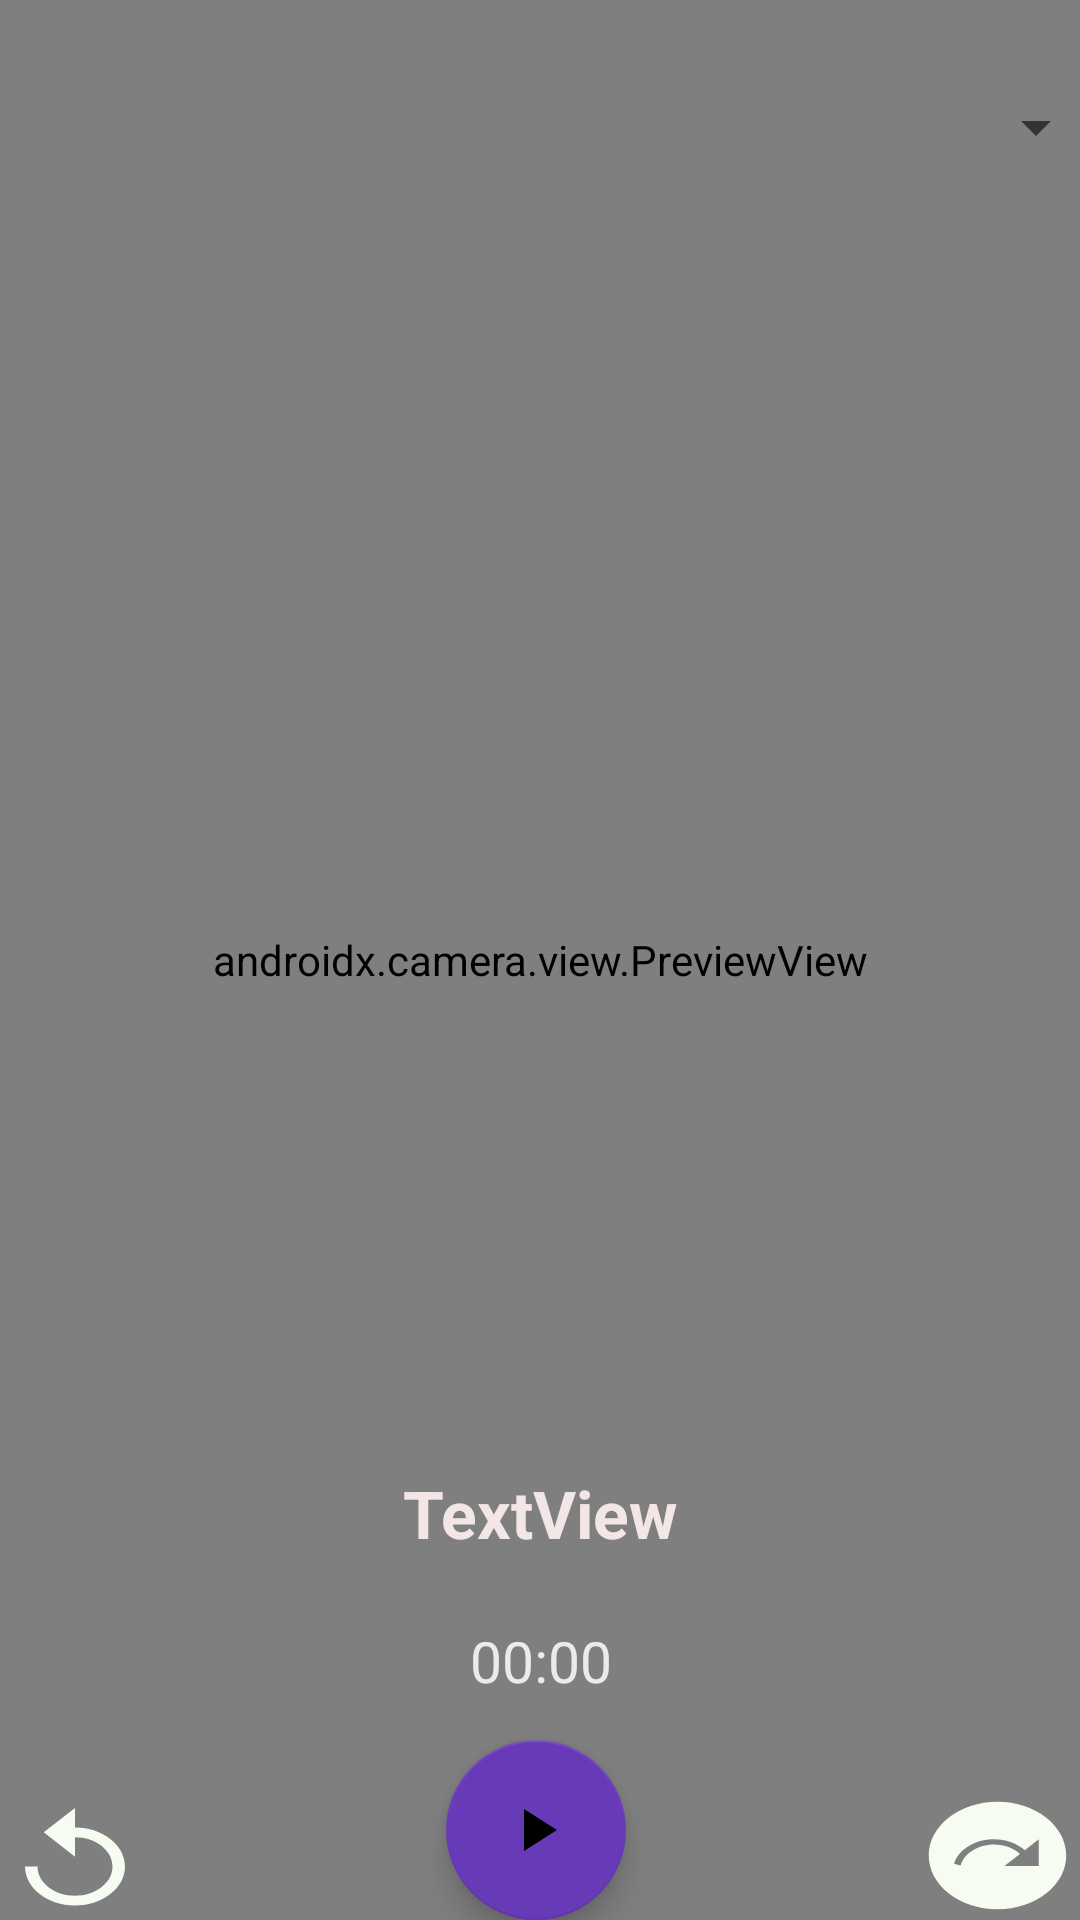

Point at icon controls on the screen. Image size 1080*1920, points as (x=x, y=y).
play arrow: (x=536, y=1830)
replay: (x=75, y=1857)
